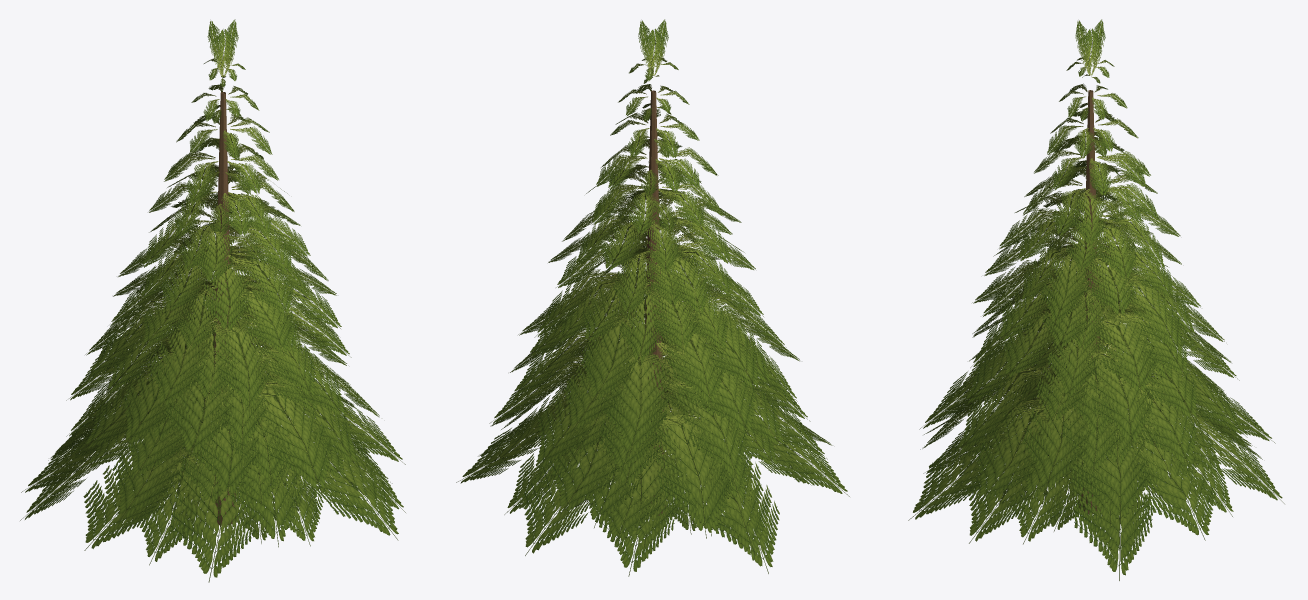
Rendered from pine_b.glb.
3 renders of one model, left to right at view 1: azimuth 30°, elevation 25°; view 2: azimuth 150°, elevation 25°; view 3: azimuth 270°, elevation 25°, orthographic. The views are drawn at different scales.
Visible parts, largest first — view 1: pine_b; view 2: pine_b; view 3: pine_b.
Part boxes in pixels (x1=…): pine_b: x1=20, y1=19, x2=405, y2=582; pine_b: x1=456, y1=19, x2=849, y2=576; pine_b: x1=908, y1=19, x2=1284, y2=580.
Size of the model in its own units: 6.12 by 8.24 by 6.2.
2 materials, 2 textured.
